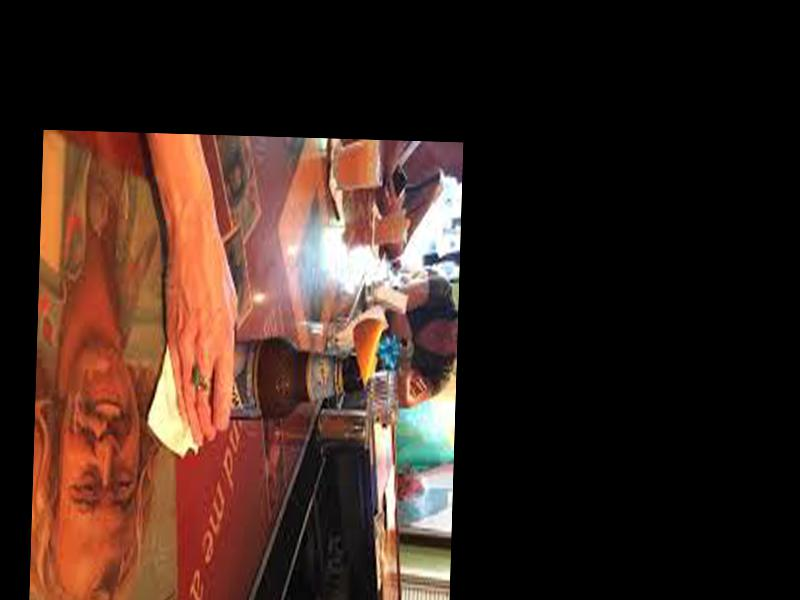Beer: (176, 339, 368, 426)
